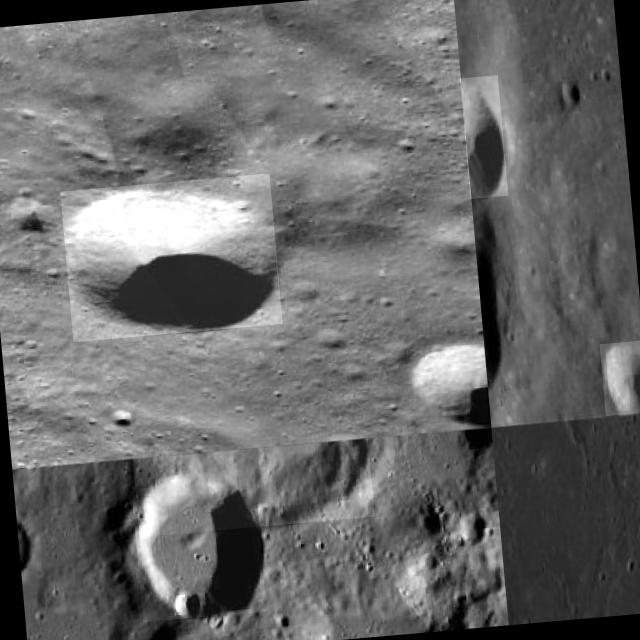crater: (60, 173, 282, 342), (133, 438, 374, 536), (130, 476, 266, 622), (408, 340, 488, 432), (459, 74, 508, 198), (598, 340, 640, 416), (168, 588, 202, 620), (558, 80, 582, 112)
